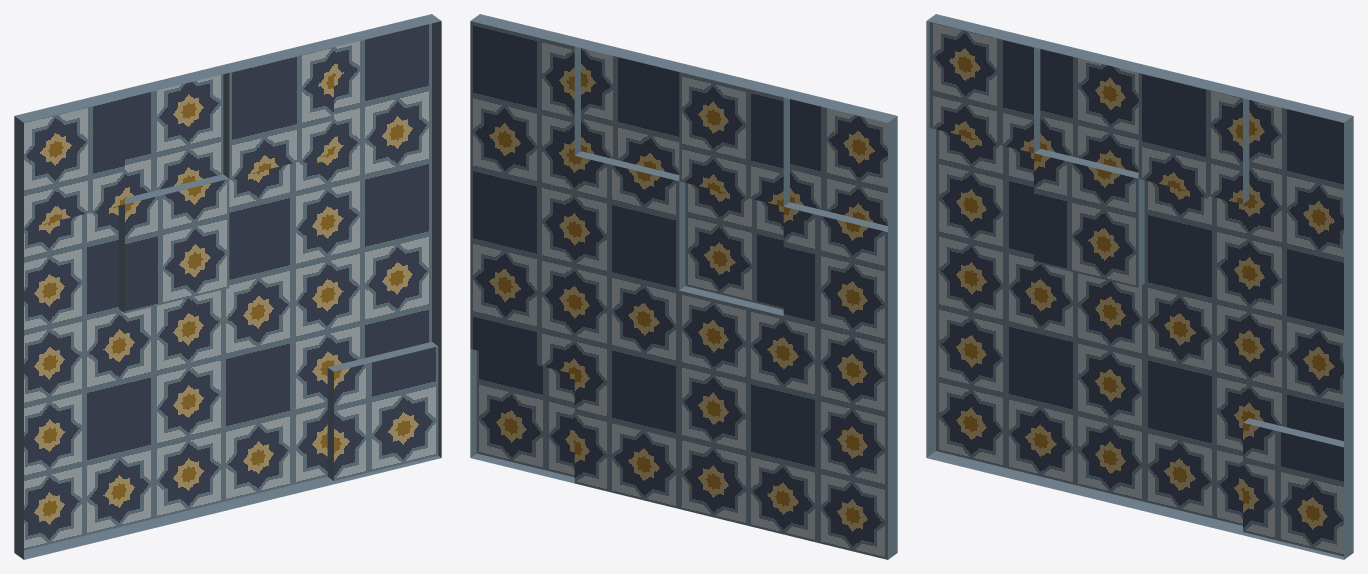
Rendered from ORN-11_Panel_de_azulejo.gltf.
The picture shows the model from 3 angles, left to right: view 1: azimuth 30°, elevation 25°; view 2: azimuth 150°, elevation 25°; view 3: azimuth 330°, elevation 25°; orthographic projection.
Visible parts, largest first — view 1: ORN-11_Panel_de_azulejo; view 2: ORN-11_Panel_de_azulejo; view 3: ORN-11_Panel_de_azulejo.
Boxes of the visible parts, box(x1,y1,x2,y2) form: ORN-11_Panel_de_azulejo: box(14, 14, 441, 559); ORN-11_Panel_de_azulejo: box(470, 14, 897, 559); ORN-11_Panel_de_azulejo: box(926, 14, 1353, 559).
Size of the model in its own units: 2 by 2 by 0.08.
Materials: 1 (1 with a texture image).
